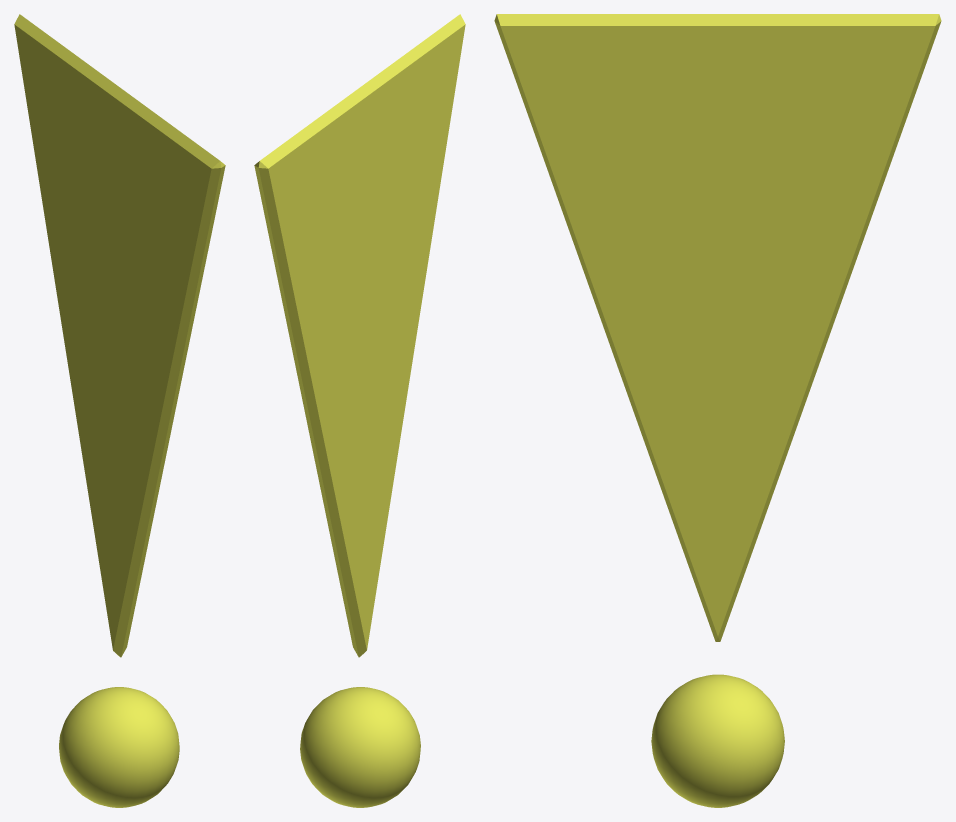
The model's file is caution_marker.fbx.
The picture shows the model from 3 angles, left to right: view 1: azimuth 30°, elevation 25°; view 2: azimuth 150°, elevation 25°; view 3: azimuth 270°, elevation 25°; orthographic projection. The views are drawn at different scales.
Parts seen in each view (by area): view 1: Plane, Sphere; view 2: Plane, Sphere; view 3: Plane, Sphere.
Boxes of the visible parts, left/top/right/bottom form: Plane: left=14, top=14, right=225, bottom=657; Sphere: left=59, top=687, right=179, bottom=807; Plane: left=254, top=14, right=465, bottom=657; Sphere: left=300, top=687, right=420, bottom=807; Plane: left=494, top=14, right=941, bottom=641; Sphere: left=651, top=674, right=784, bottom=807.
Bounding box in the file's own units: 31.43 × 205 × 105.
